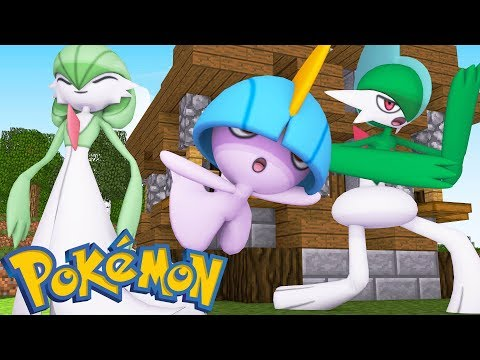gardevoir: (6, 43, 145, 262)
